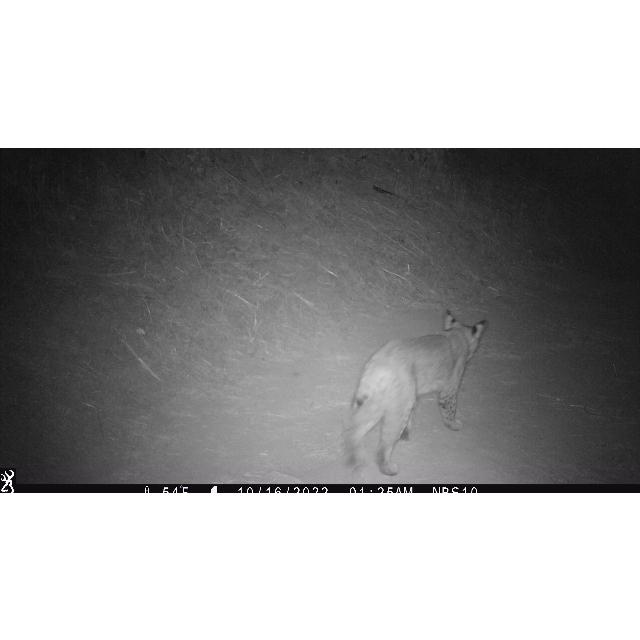animals: (344, 306, 491, 478)
